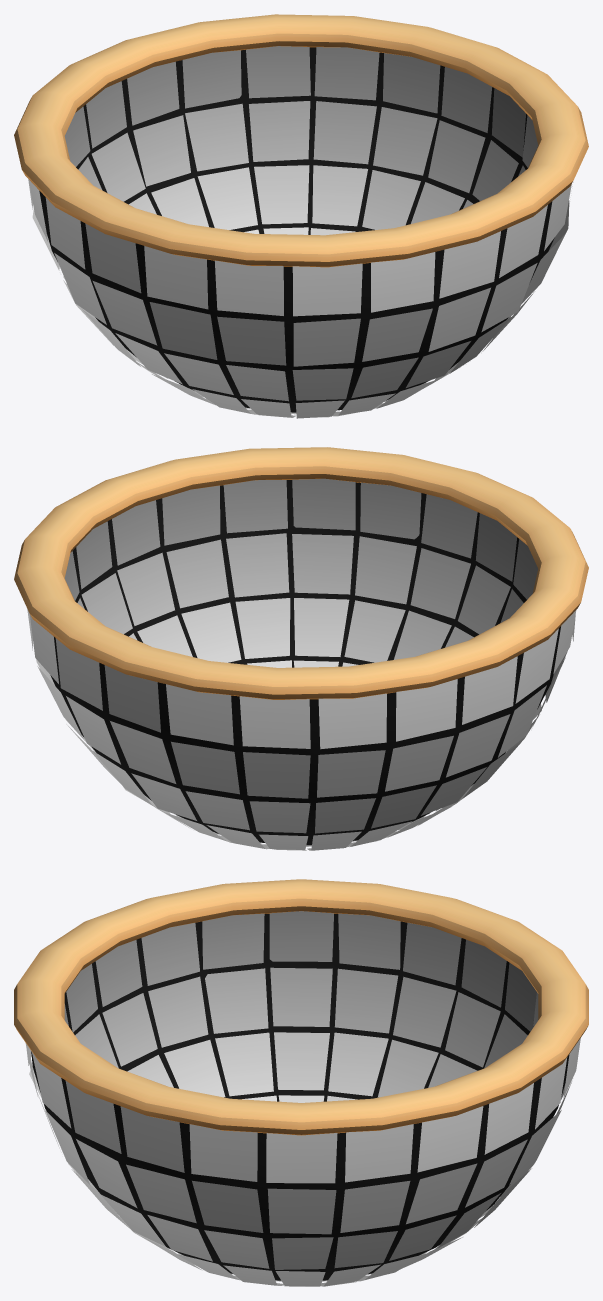
File: Disco_Ball.glb
3 views of the same model, one above another, from view 1: azimuth 30°, elevation 25°; view 2: azimuth 150°, elevation 25°; view 3: azimuth 270°, elevation 25° (orthographic).
Visible parts, largest first — view 1: DiscoHalf_TilesOuter; view 2: DiscoHalf_TilesOuter; view 3: DiscoHalf_TilesOuter.
Boxes of the visible parts, bbox=[...] form: DiscoHalf_TilesOuter: bbox=[14, 14, 588, 418]; DiscoHalf_TilesOuter: bbox=[14, 447, 588, 850]; DiscoHalf_TilesOuter: bbox=[14, 879, 588, 1286].
Size of the model in its own units: 0.452 by 0.2309 by 0.4474.
1 material, 1 textured.
